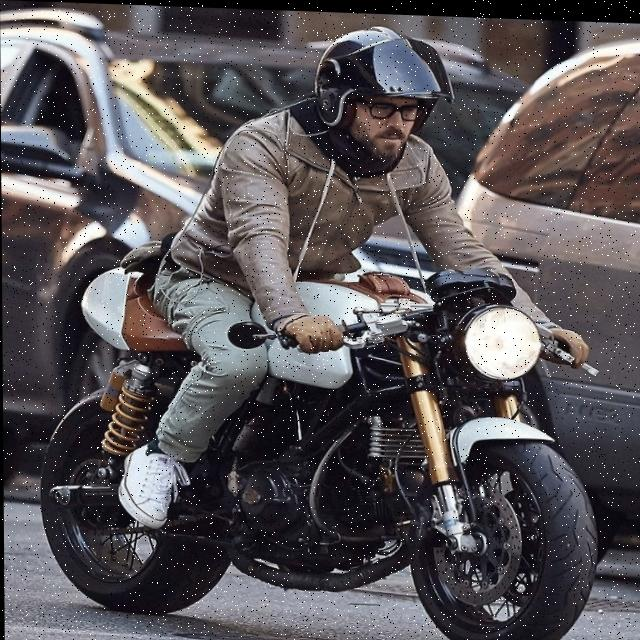helmet: (309, 15, 462, 167)
